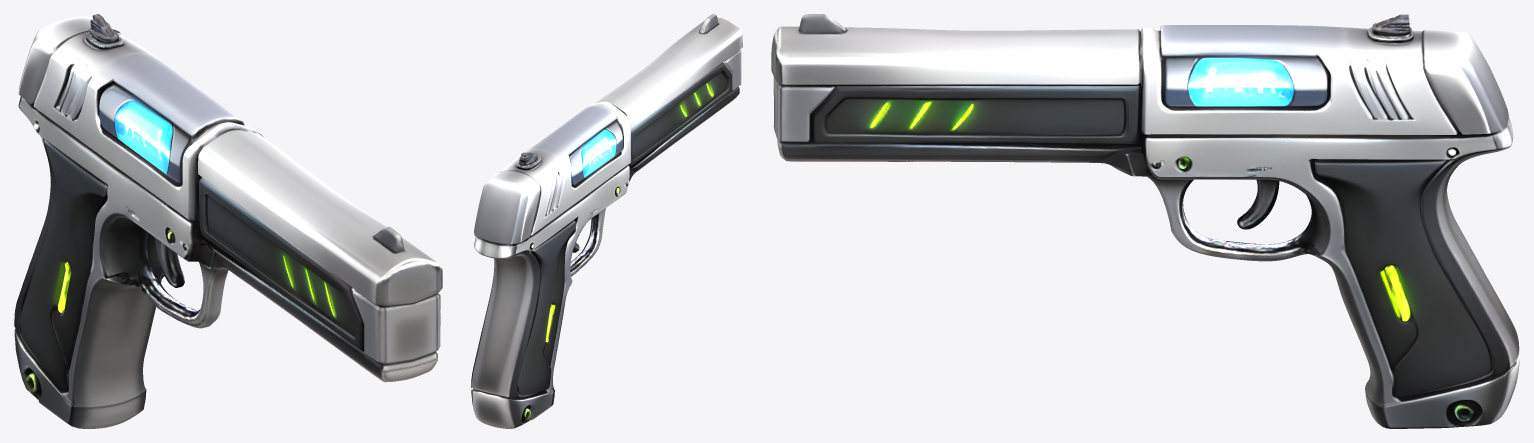
Rendered from cyber-x-handgun-alpha.glb.
3 renders of one model, left to right at view 1: azimuth 30°, elevation 25°; view 2: azimuth 150°, elevation 25°; view 3: azimuth 270°, elevation 25°, orthographic. The views are drawn at different scales.
Parts seen in each view (by area): view 1: model; view 2: model; view 3: model.
Part boxes in pixels (bbox=[...]): model: bbox=[14, 14, 442, 428]; model: bbox=[471, 14, 742, 428]; model: bbox=[771, 14, 1519, 428].
Size of the model in its own units: 0.2154 by 1.07 by 1.79.
1 material, 1 textured.
